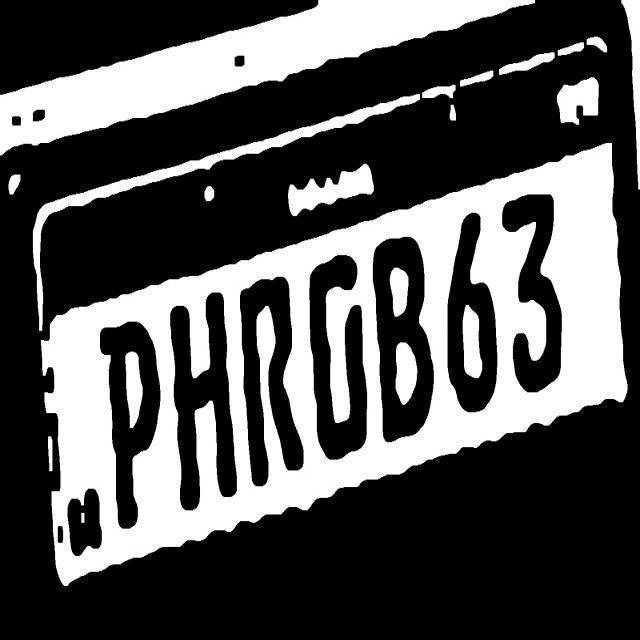0: (304, 244, 373, 467)
3: (496, 182, 566, 402)
6: (442, 207, 502, 423)
b: (368, 224, 437, 454)
h: (164, 280, 240, 520)
p: (96, 312, 166, 538)
r: (234, 260, 308, 494)
